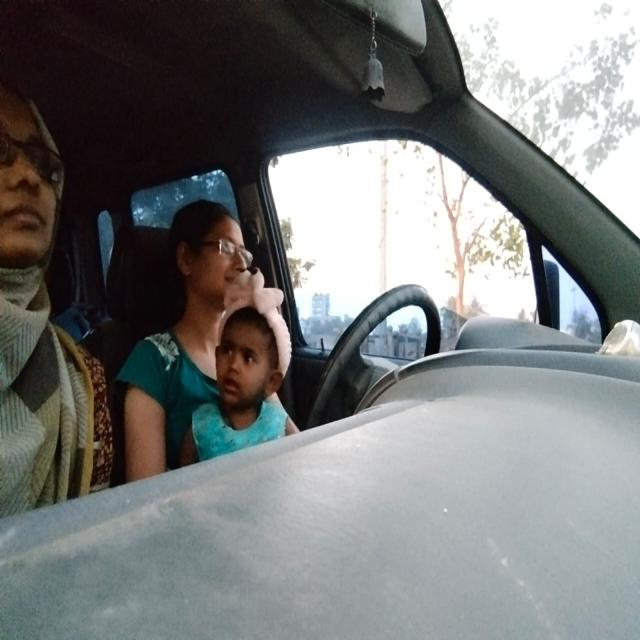child: (211, 274, 295, 418)
person: (2, 80, 68, 305), (167, 188, 255, 317)
